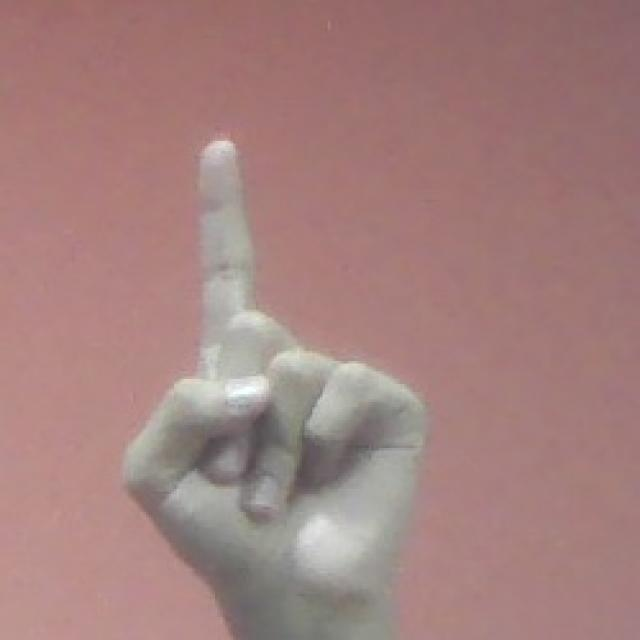Numeric-1: (119, 137, 431, 618)
